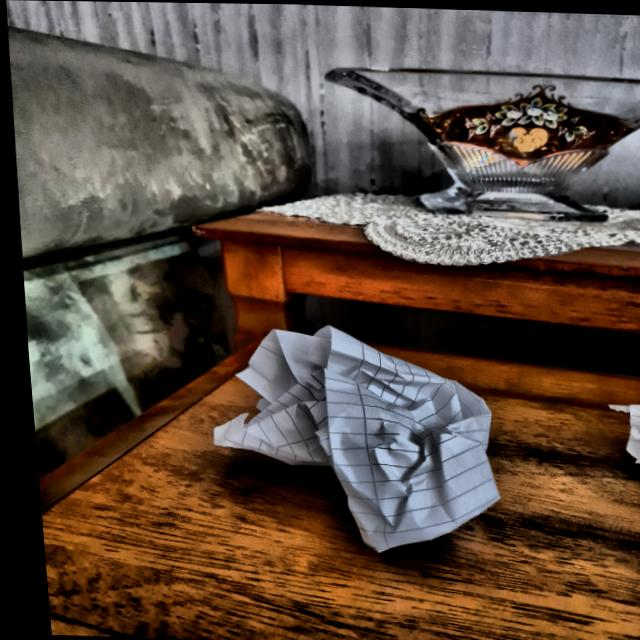Paper: (199, 318, 499, 553)
